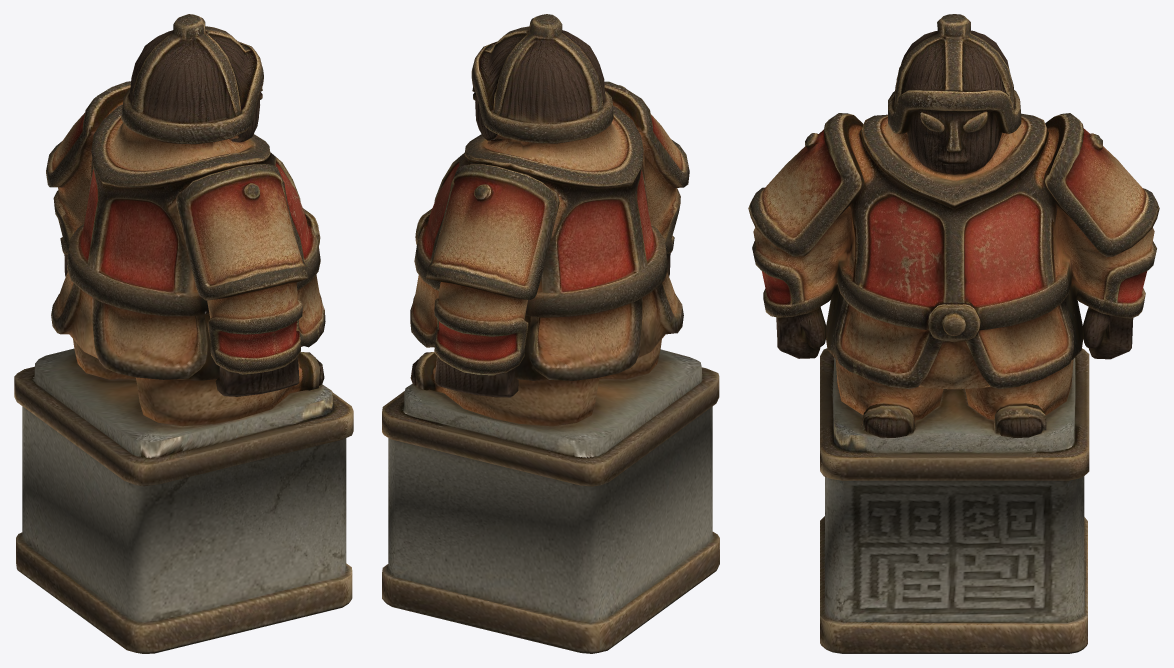
File: tripo_convert_9f99bec5-da45-4749-862c-27964f41de26.fbx
The picture shows the model from 3 angles, left to right: view 1: azimuth 30°, elevation 25°; view 2: azimuth 150°, elevation 25°; view 3: azimuth 270°, elevation 25°; orthographic projection. The views are drawn at different scales.
Visible parts, largest first — view 1: tripo_node_9f99bec5; view 2: tripo_node_9f99bec5; view 3: tripo_node_9f99bec5.
Boxes of the visible parts, x1=… form: tripo_node_9f99bec5: x1=14, y1=14, x2=353, y2=653; tripo_node_9f99bec5: x1=382, y1=14, x2=719, y2=653; tripo_node_9f99bec5: x1=748, y1=14, x2=1159, y2=653.
Size of the model in its own units: 0.4512 by 0.998 by 0.6387.
Materials: 1 (1 with a texture image).
